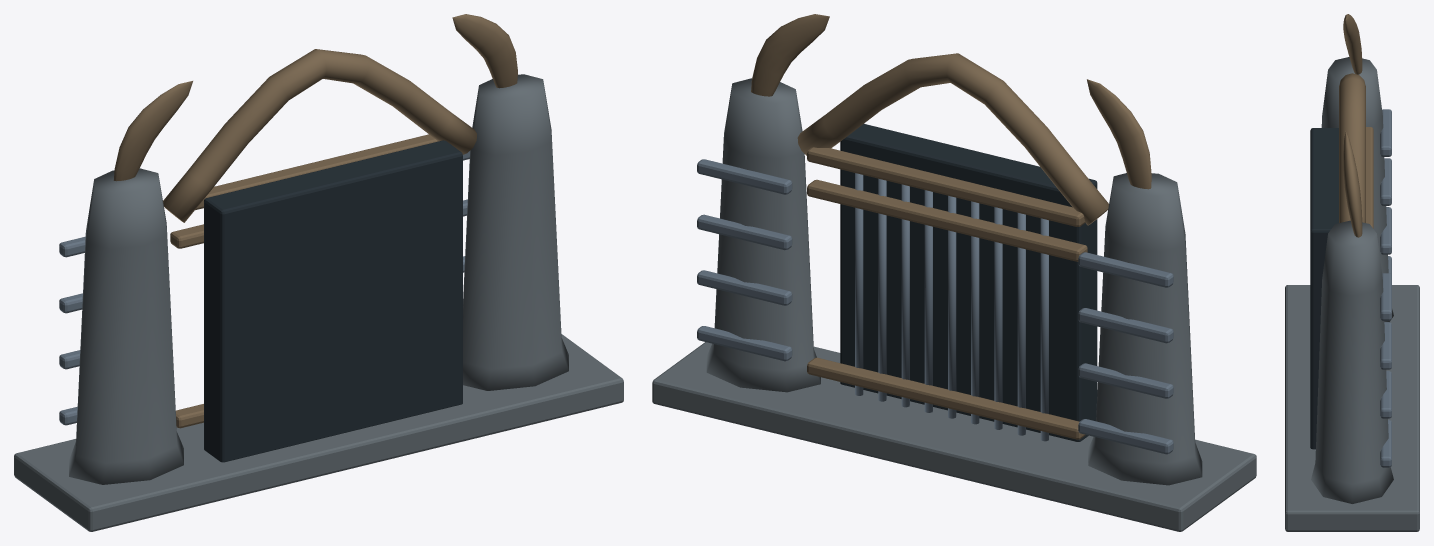
Rendered from furnace_throne.glb.
3 renders of one model, left to right at view 1: azimuth 30°, elevation 25°; view 2: azimuth 150°, elevation 25°; view 3: azimuth 270°, elevation 25°, orthographic. The views are drawn at different scales.
Parts seen in each view (by area): view 1: Body__stone, Body__recess, Body__bronze, Body__iron; view 2: Body__stone, Body__recess, Body__bronze, Body__iron; view 3: Body__stone, Body__bronze, Body__recess, Body__iron.
Boxes of the visible parts, x1,y1,x2,y2 form: Body__stone: (14,74,623,531); Body__recess: (204,140,462,462); Body__bronze: (113,14,517,428); Body__iron: (59,151,469,425); Body__stone: (652,78,1256,531); Body__recess: (840,124,1097,441); Body__bronze: (751,14,1151,439); Body__iron: (697,159,1173,454); Body__stone: (1285,57,1419,531); Body__bronze: (1339,14,1373,237); Body__recess: (1310,128,1338,449); Body__iron: (1380,109,1391,467).
Bounding box in the file's own units: 6.4 × 4.5 × 1.6.
